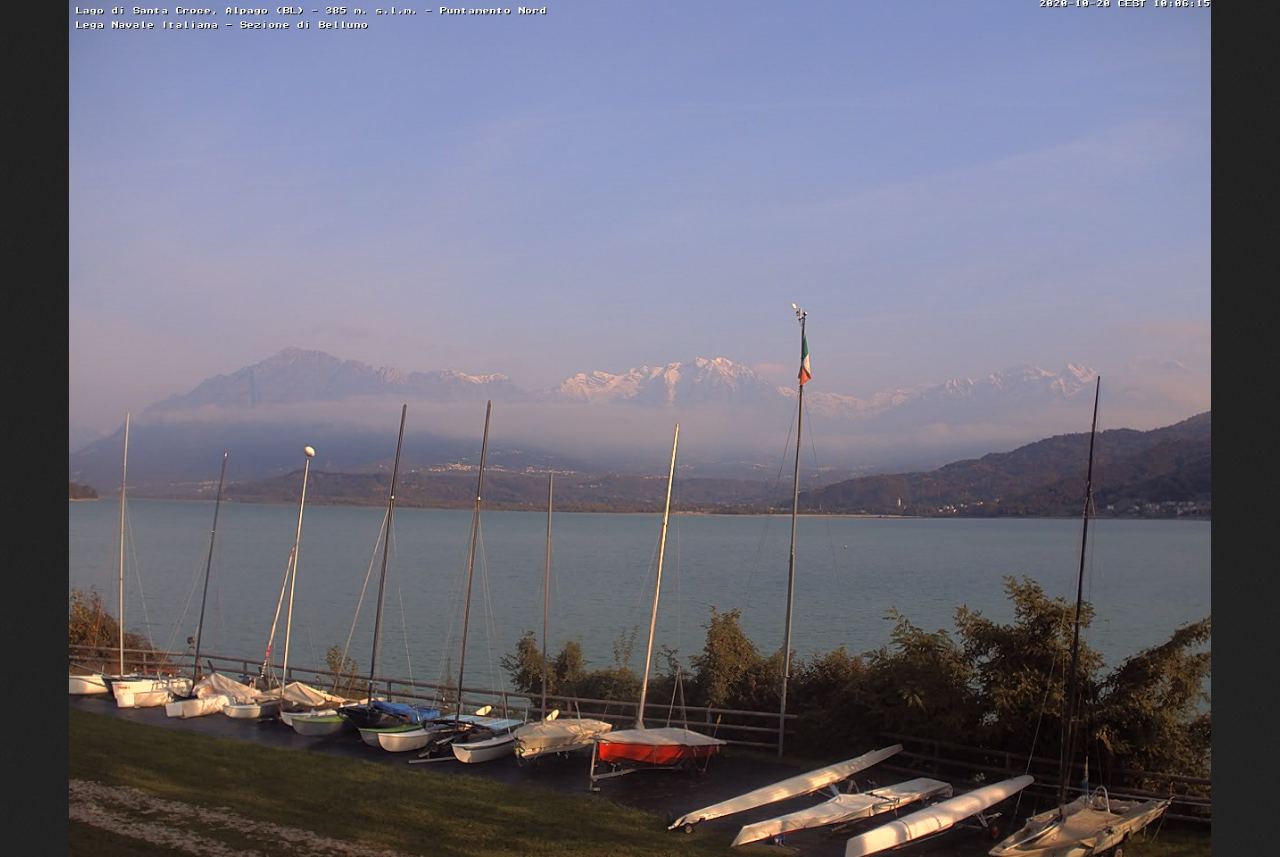maybe: (797, 330, 812, 388)
